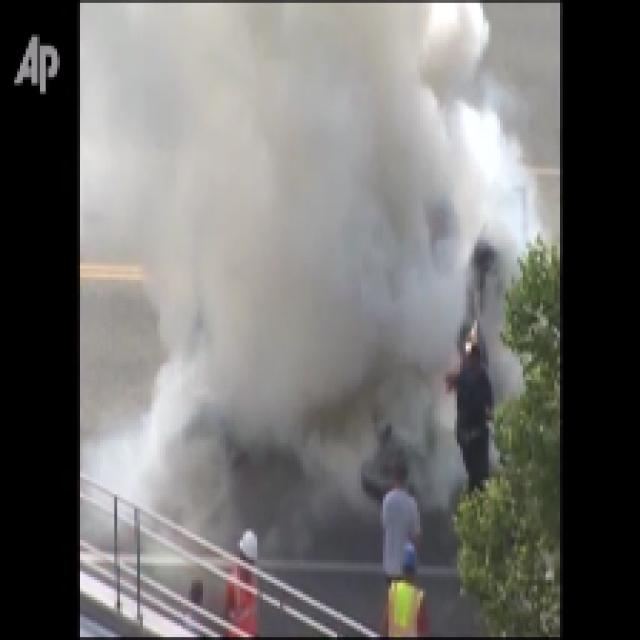smoke: (168, 24, 452, 513)
